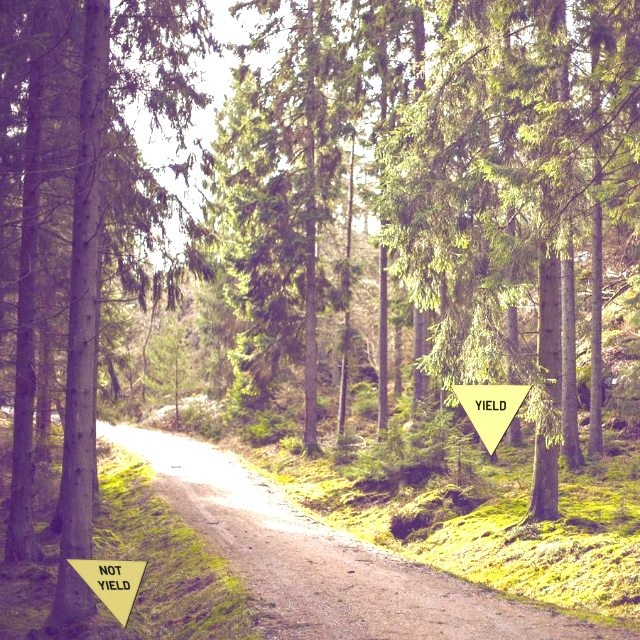NOT_YIELD: (64, 558, 148, 629)
YIELD: (449, 384, 533, 457)
